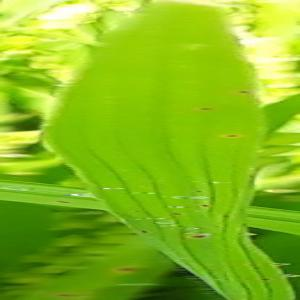Brown_Spot: (187, 229, 216, 244), (221, 126, 244, 143), (172, 192, 198, 203), (195, 101, 215, 115), (235, 84, 251, 98), (259, 274, 274, 284), (200, 199, 212, 211), (137, 187, 151, 196), (138, 227, 150, 237), (171, 210, 184, 218), (222, 211, 233, 220), (194, 187, 204, 194), (241, 221, 249, 229)
